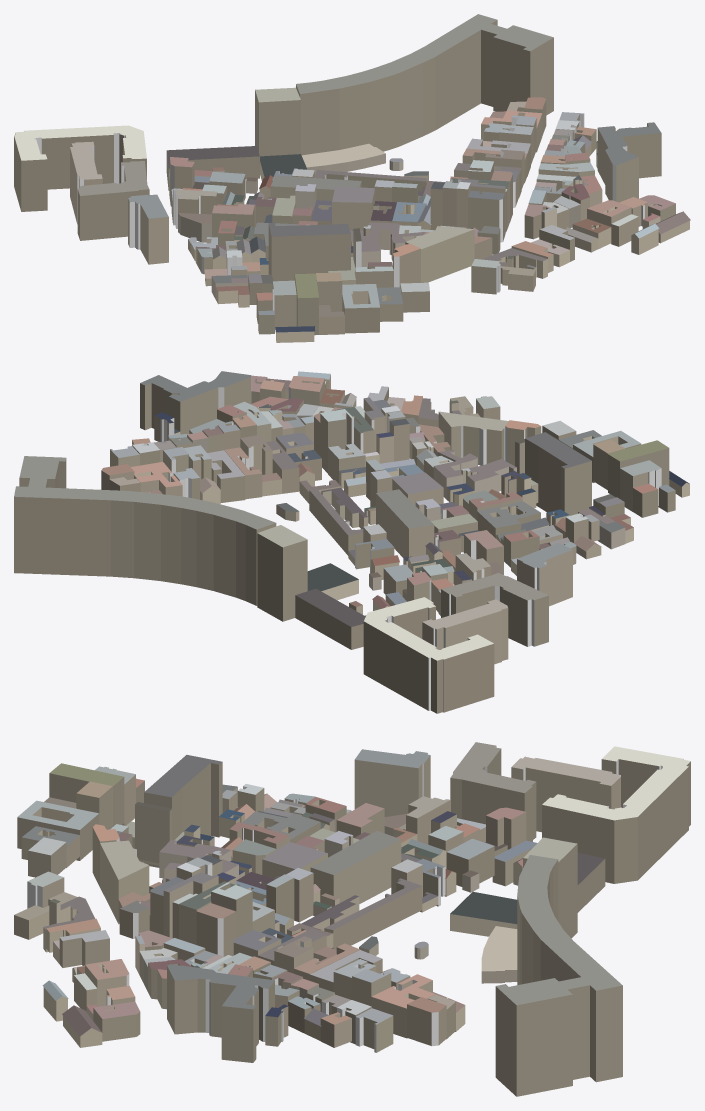
3 renders of one model, top to bottom at view 1: azimuth 30°, elevation 25°; view 2: azimuth 150°, elevation 25°; view 3: azimuth 270°, elevation 25°, orthographic. The views are drawn at different scales.
Parts seen in each view (by area): view 1: tuile; view 2: tuile; view 3: tuile.
Boxes of the visible parts, x1=… form: tuile: x1=14, y1=14, x2=690, y2=342; tuile: x1=14, y1=371, x2=689, y2=713; tuile: x1=14, y1=742, x2=690, y2=1096.
Bounding box in the file's own units: 285 × 47.4 × 273.
